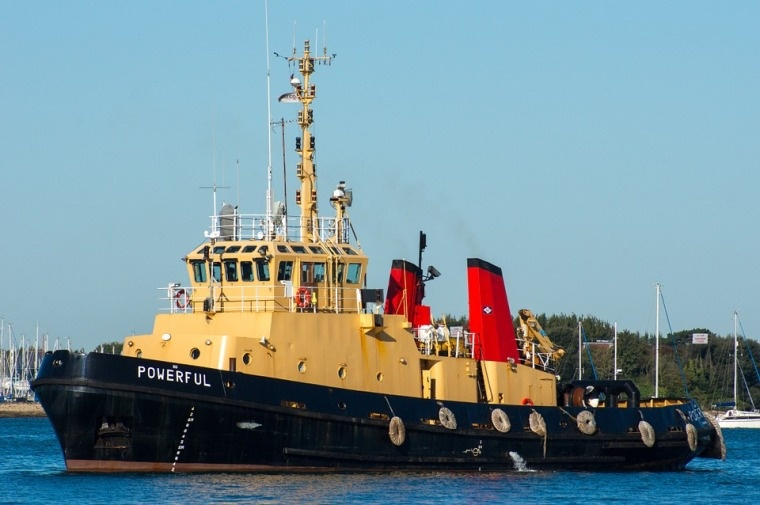otherboat: (36, 112, 724, 463)
